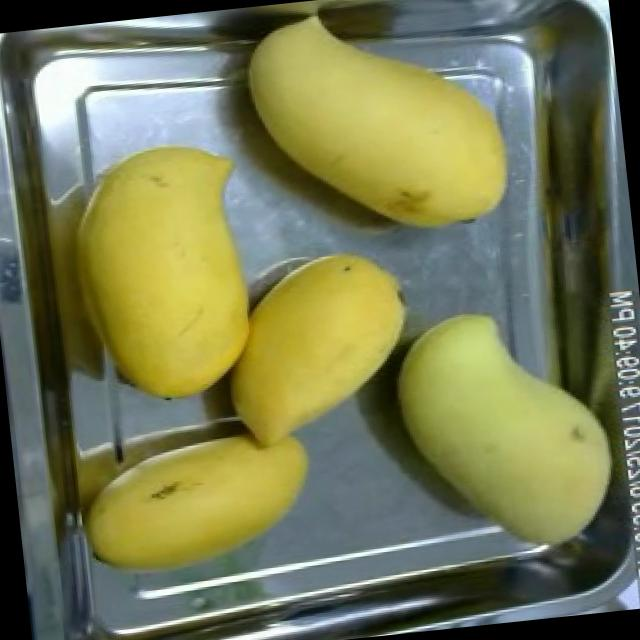fruit: (225, 0, 550, 263), (374, 286, 633, 571), (45, 123, 274, 418), (205, 226, 427, 456), (66, 417, 336, 590)
